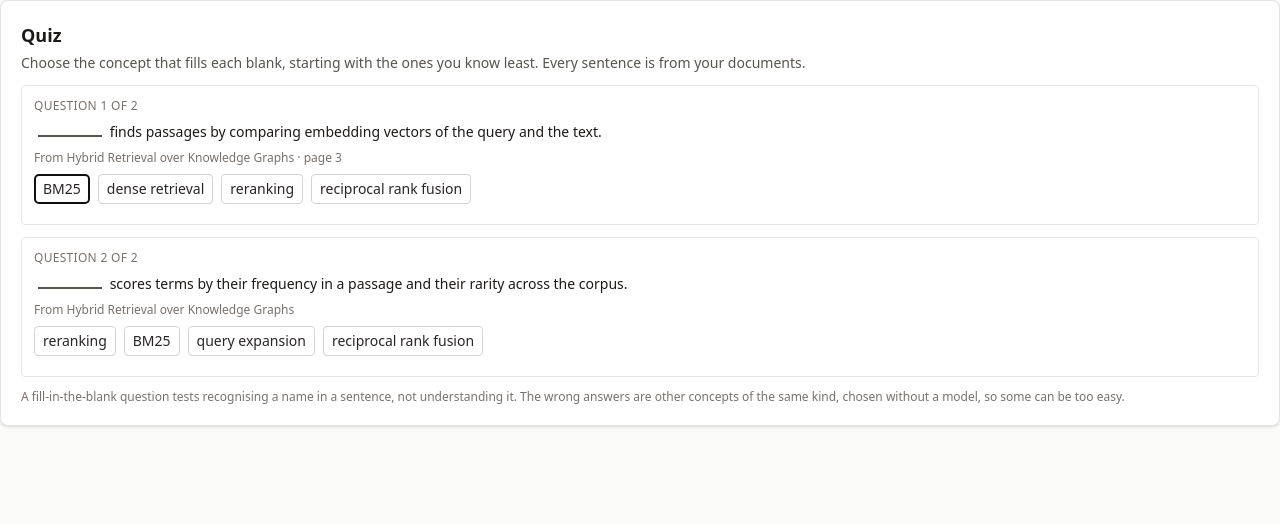
Scenario: QuizCard: answering › keeps focus on a button while the choice is checked and ignores a second press meanwhile
Click the button "BM25" below "· page 3" at (62, 189), box [34,174,90,204]
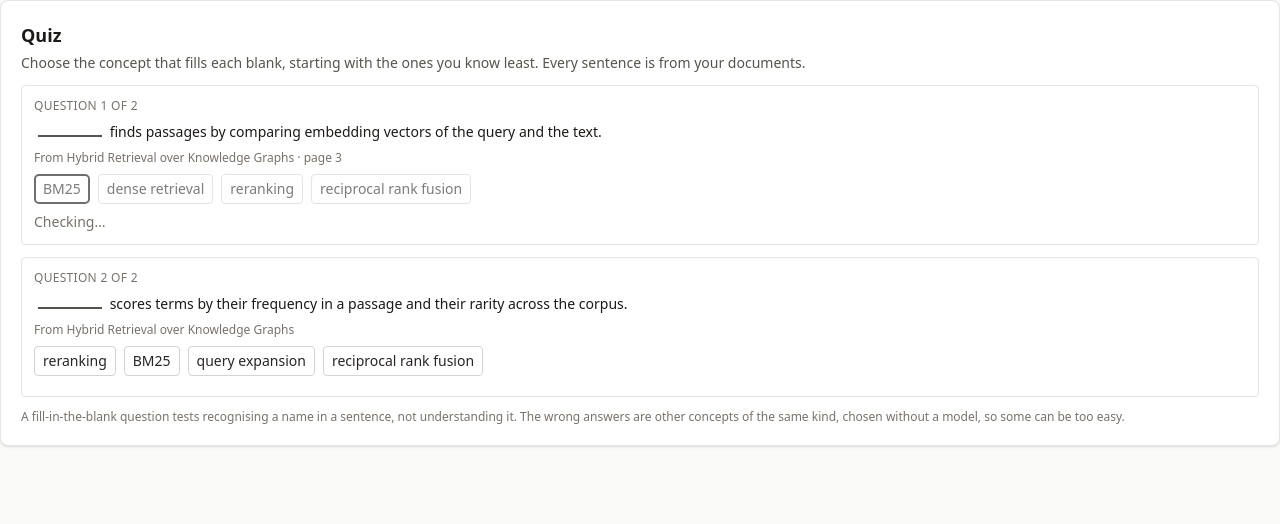
Check: the text "Checking…" is shown, box [34,212,106,231]
Click the button "reranking" below "· page 3" at (262, 189), box [221,174,303,204]
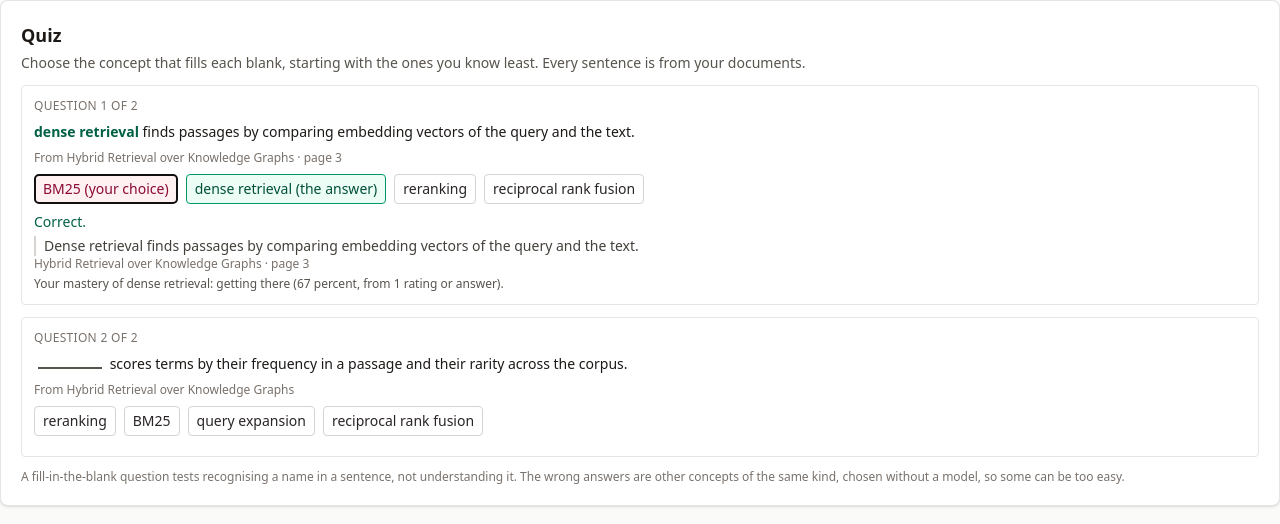
Check: the text "Correct." is shown, box [34,212,86,231]
